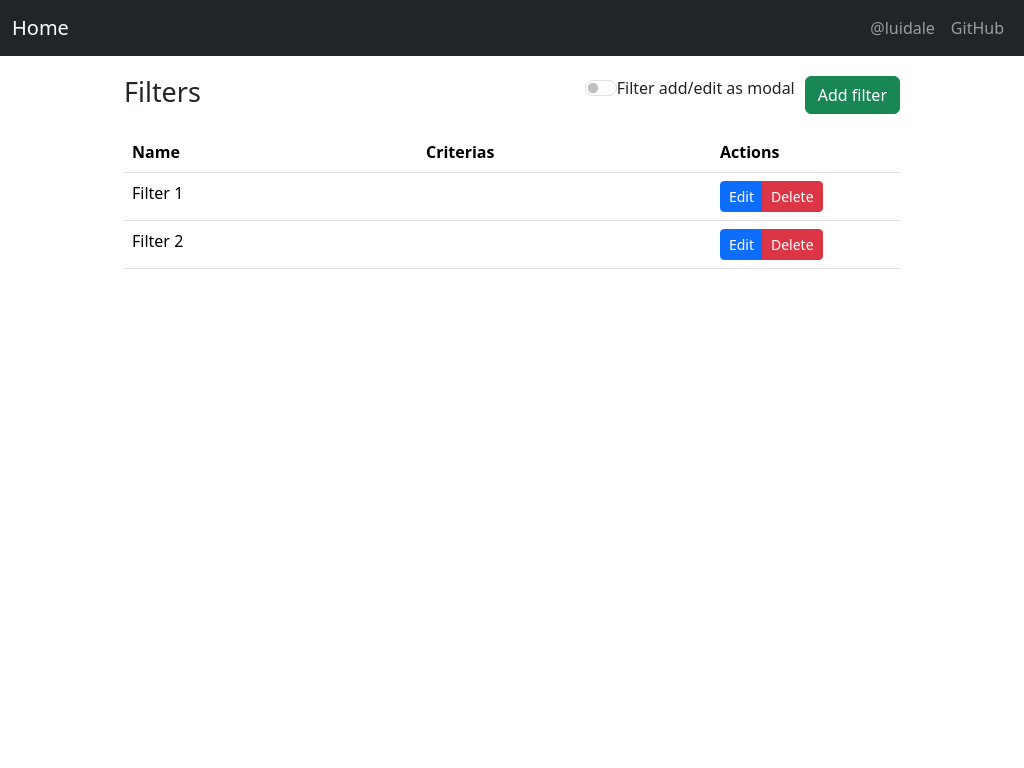
Test: FilterList Component › opens edit view in modal-mode when Edit button is clicked
Expected: the heading "Filters" is shown, [124,73,201,110]
# Simulate clicking on the modal switch
Click the checkbox labelled "Filter add/edit as modal": (601, 88) [585,80,617,96]
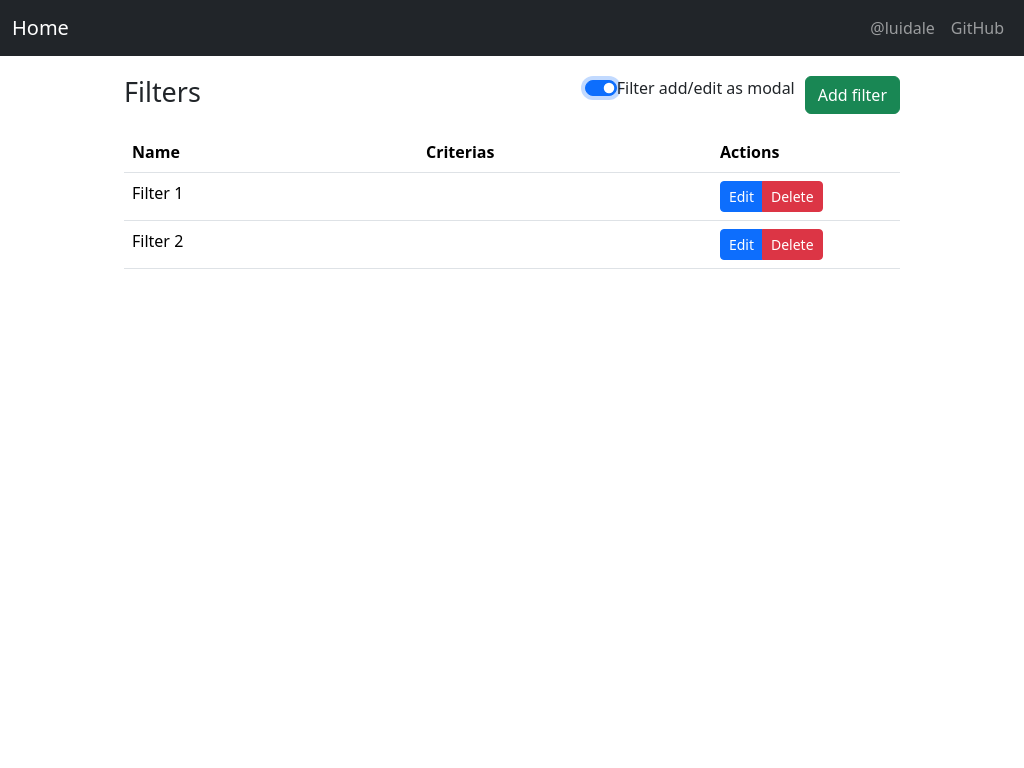
Expected: the checkbox labelled "Filter add/edit as modal" is checked, [585,80,617,96]
# Click on the Edit button for the first filter
Click the button "Edit" in the row of "Filter 1": (741, 197) [720,181,763,212]
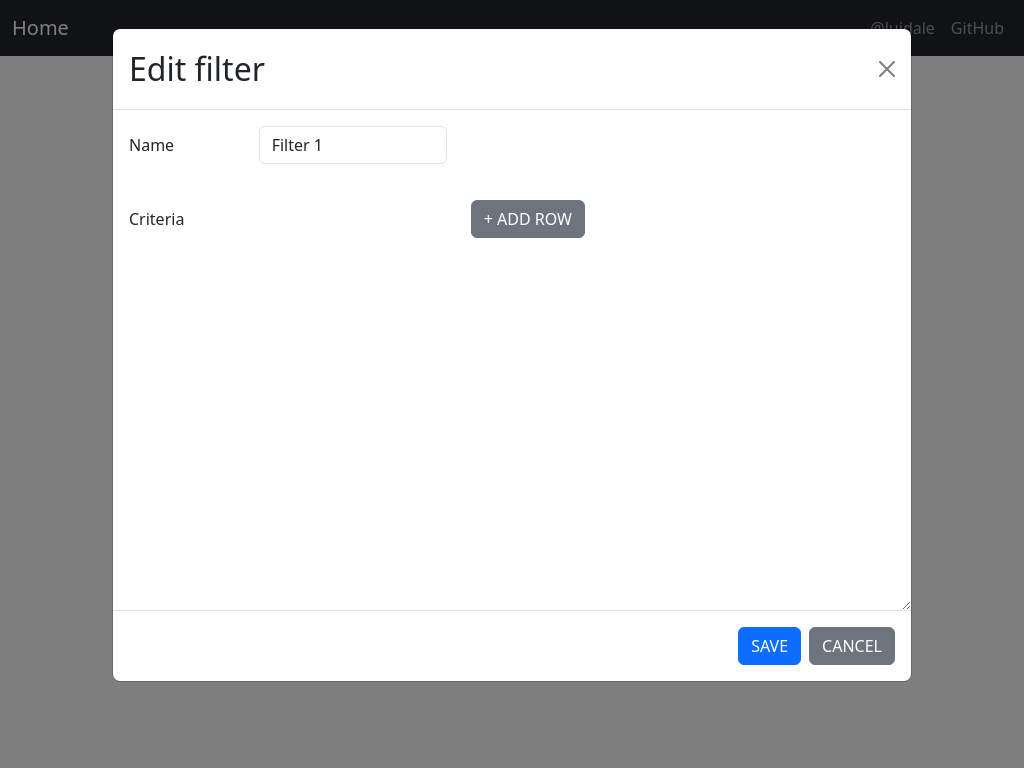
Expected: the heading "Edit filter" is shown, [129,45,265,93]
Expected: the dialog is shown
